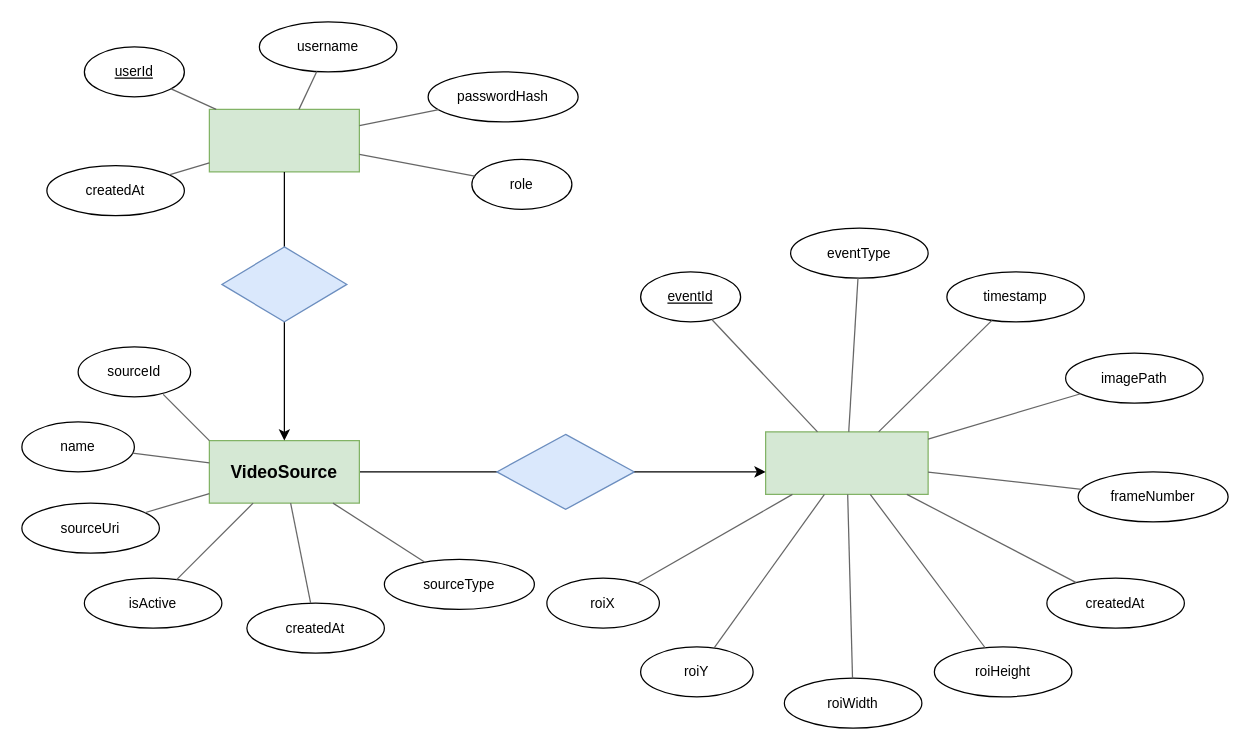
Some shapes in this 1250 by 750 pixel diagram are drawn without their labels. The centre of each missing label's shape, as x and y in pixels:
"creates" goes at (x=284, y=284).
"Event" goes at (x=846, y=462).
"generates" goes at (x=565, y=471).
"User" goes at (x=283, y=140).
